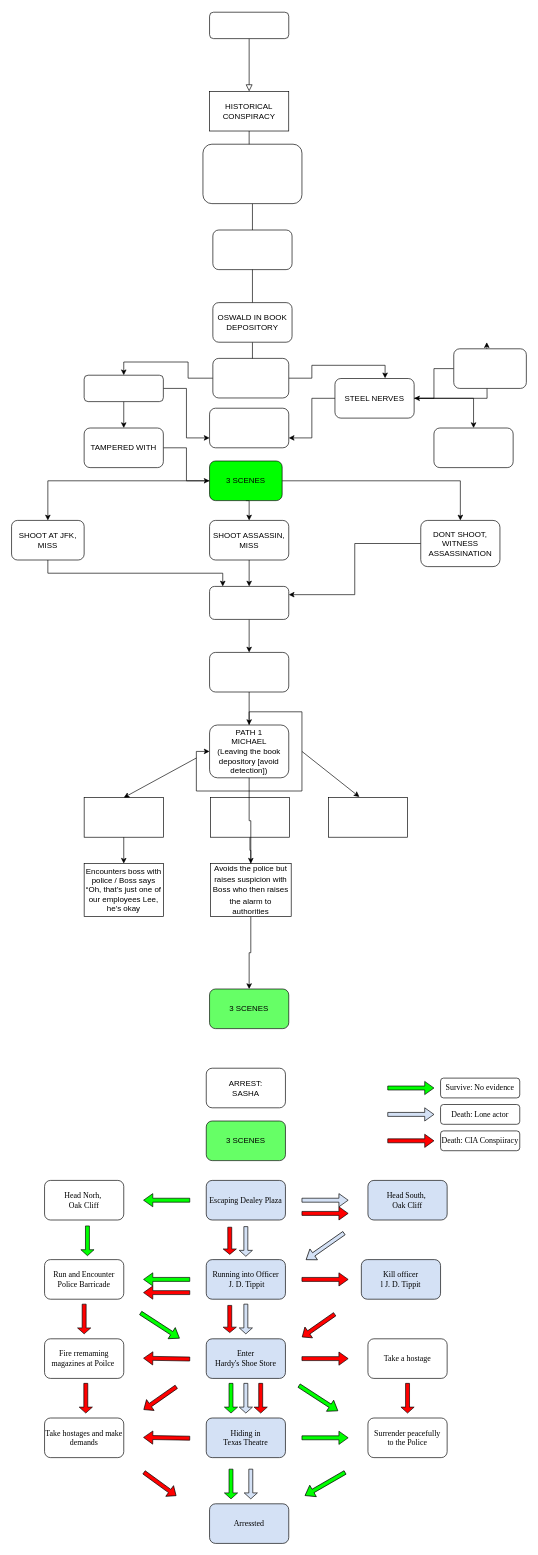
Image size: 538x1555. Some labels were removed from this diagram. Each missing label, with the box of its shape:
CALM AND COLLECTED: (433, 427, 513, 468)
CHECK RIFLE: (83, 375, 163, 402)
DESIGN PHASE 1 EACH MEMBER DESIGNS A CHARACTER AND STORY: (202, 144, 302, 204)
HISTORICAL WHAT/IF CRIME STORY: (209, 12, 289, 39)
JFK: MOTORCADE AND ASSASSINATION: (212, 229, 292, 270)
LEAVE FLOOR: (209, 652, 289, 692)
Leave in a calm and collected manner: (83, 797, 163, 837)
Move to an alternate part of the building: (328, 797, 408, 837)
PANIC ATTACK: (453, 348, 526, 388)
PREPARATION: (212, 358, 289, 398)
Run for the hills / Get out as quick as possible: (210, 797, 290, 837)
SHOOTING: (209, 408, 289, 448)
WITNESS ASSASSINATION: (209, 586, 289, 619)
